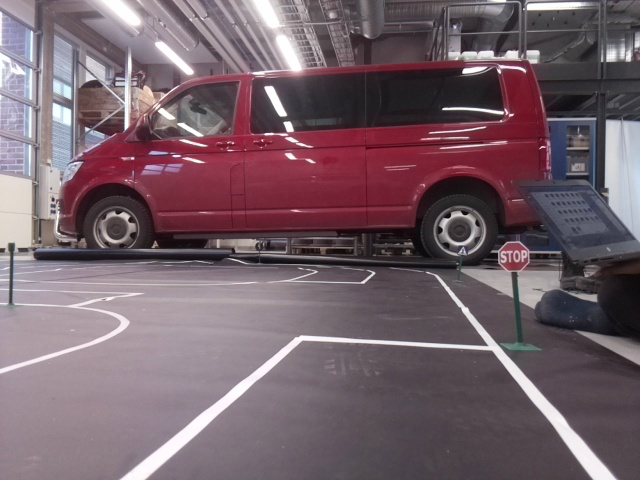Stop: (496, 240, 530, 274)
